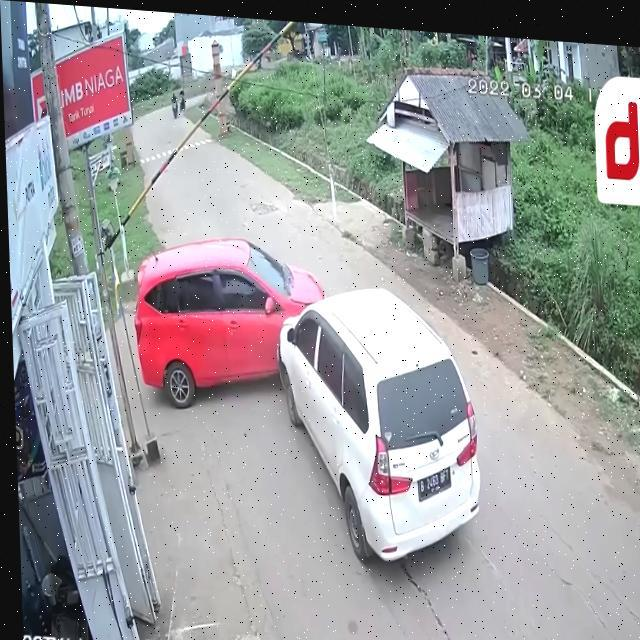multiple_accident: (138, 172, 520, 590)
